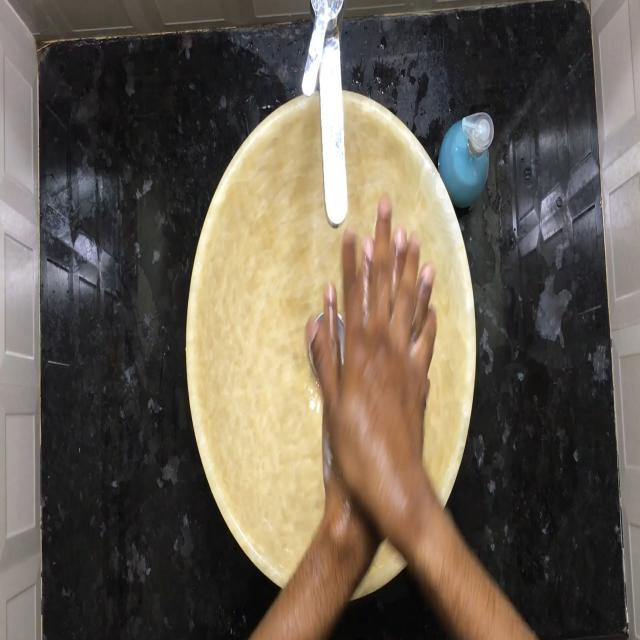step_2: (305, 192, 443, 526)
